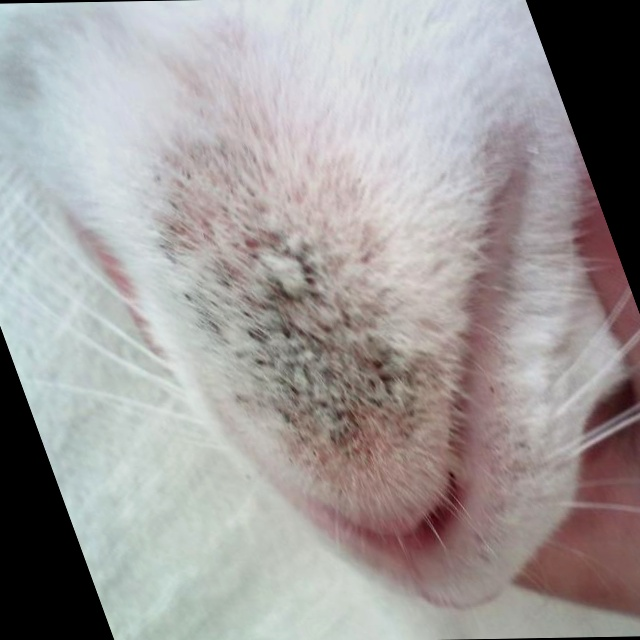acne: (145, 213, 446, 465)
